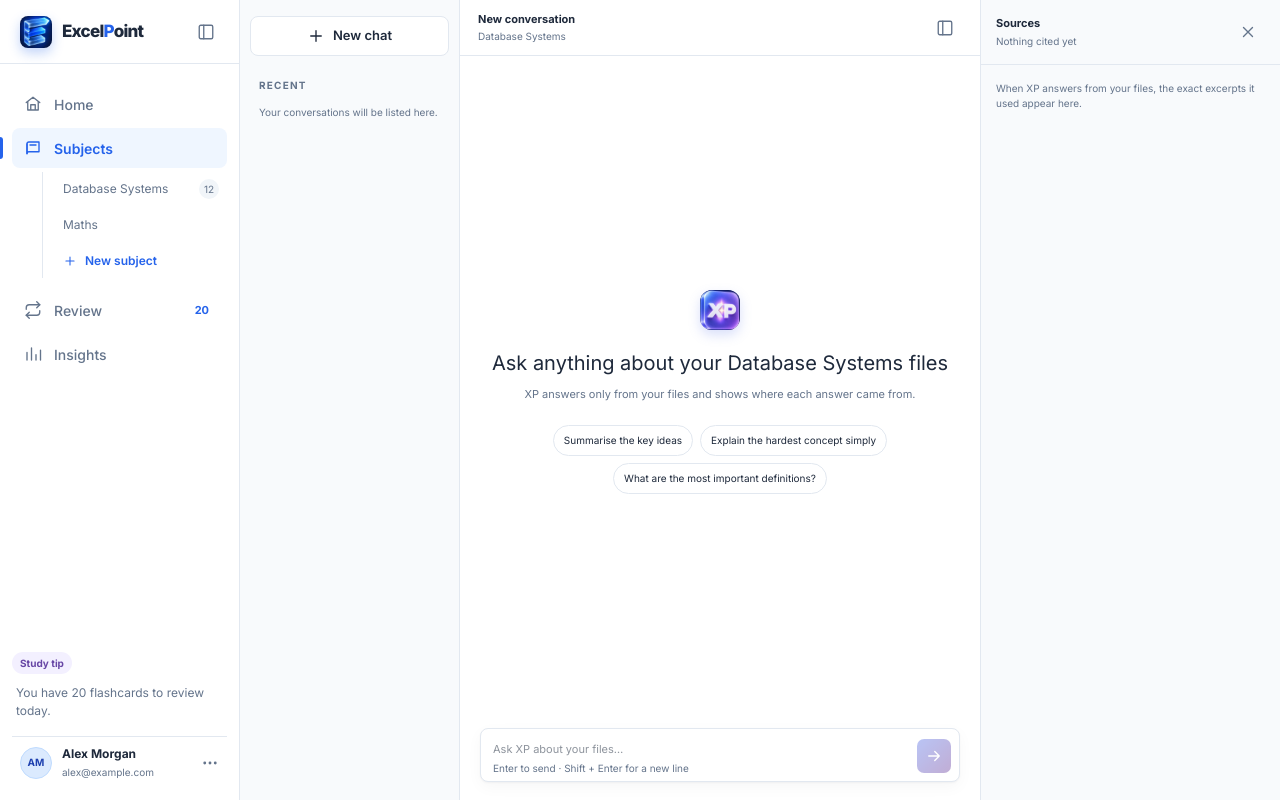
XP chat before any file is ready › a suggested question is sent straight away
Step 1. Click the button "Summarise the key ideas" → point(623, 440), box [553, 425, 693, 456]
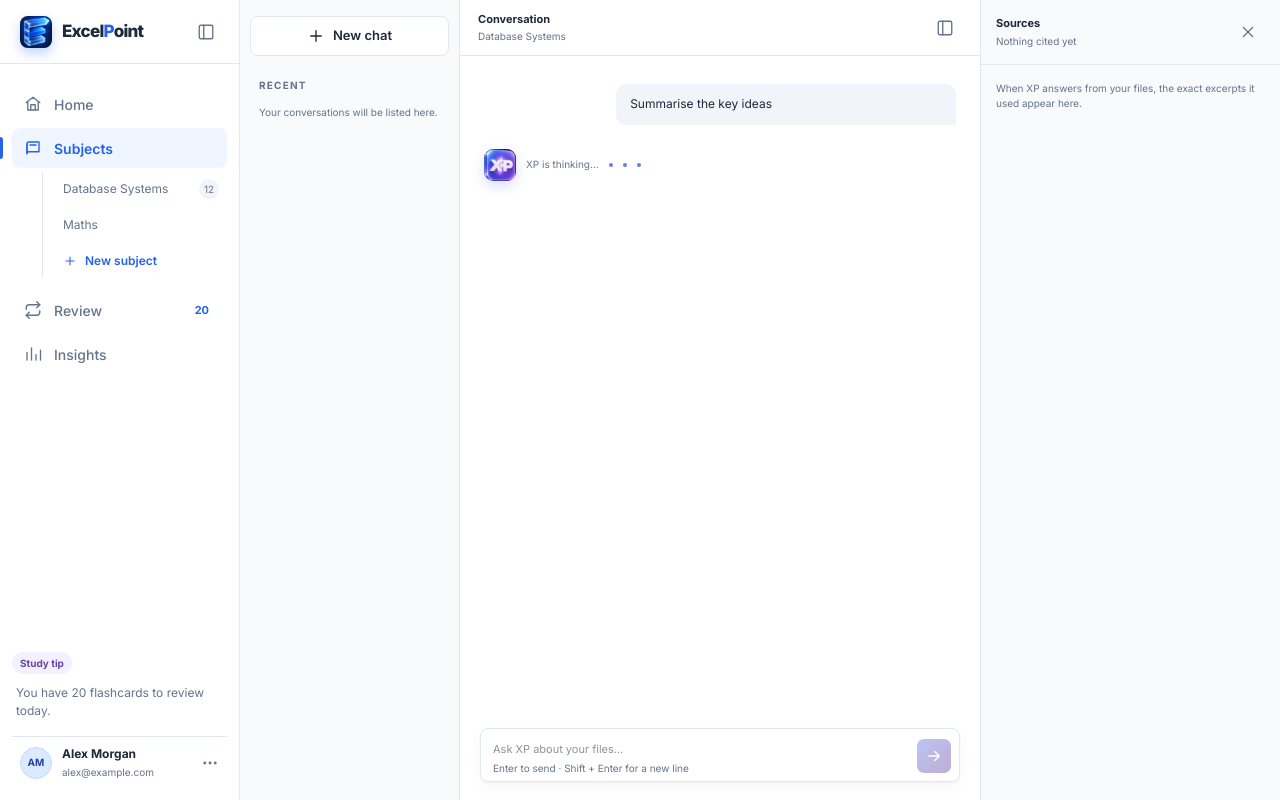
Check: the text "XP is thinking…" is shown, box [526, 157, 599, 172]
